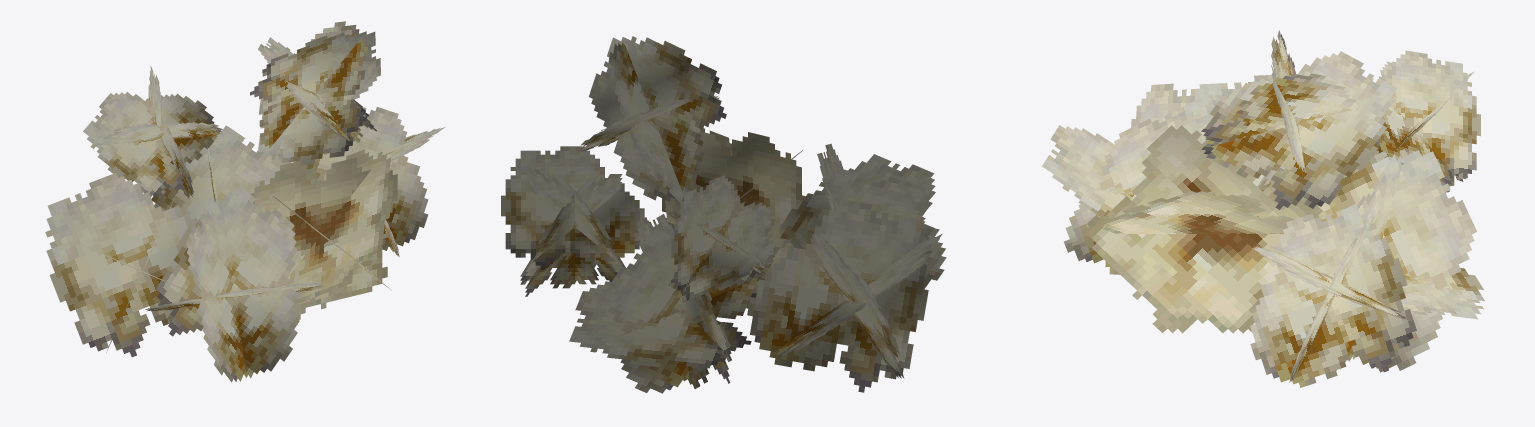
File: stg200_obj_popcorn2.obj
3 views of the same model, side by side, from view 1: azimuth 30°, elevation 25°; view 2: azimuth 150°, elevation 25°; view 3: azimuth 270°, elevation 25° (orthographic). The views are drawn at different scales.
Parts seen in each view (by area): view 1: polygon0; view 2: polygon0; view 3: polygon0.
Boxes of the visible parts, <box> form: polygon0: <box>45,21,445,382</box>; polygon0: <box>501,36,946,393</box>; polygon0: <box>1042,30,1484,387</box>.
Size of the model in its own units: 13.11 by 10.01 by 11.21.
1 material, 1 textured.
